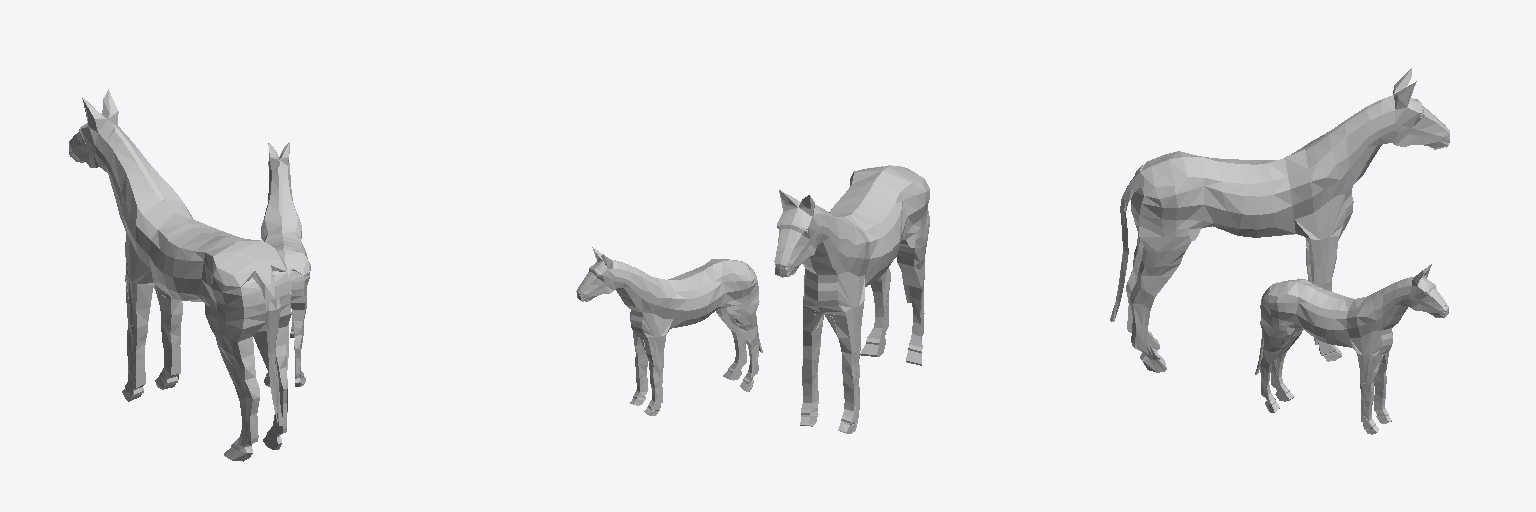
The model's file is Horse Render.obj.
3 renders of one model, left to right at view 1: azimuth 30°, elevation 25°; view 2: azimuth 150°, elevation 25°; view 3: azimuth 270°, elevation 25°, orthographic.
Visible parts, largest first — view 1: HORSE-1_Plane.001, HORSE-2_Plane.003; view 2: HORSE-1_Plane.001, HORSE-2_Plane.003; view 3: HORSE-1_Plane.001, HORSE-2_Plane.003.
Boxes of the visible parts, <box> form: HORSE-1_Plane.001: <box>69,89,291,461</box>; HORSE-2_Plane.003: <box>261,142,310,386</box>; HORSE-1_Plane.001: <box>774,165,929,433</box>; HORSE-2_Plane.003: <box>576,247,762,415</box>; HORSE-1_Plane.001: <box>1110,68,1449,372</box>; HORSE-2_Plane.003: <box>1255,264,1448,434</box>.
Size of the model in its own units: 3.59 by 4.29 by 4.87.